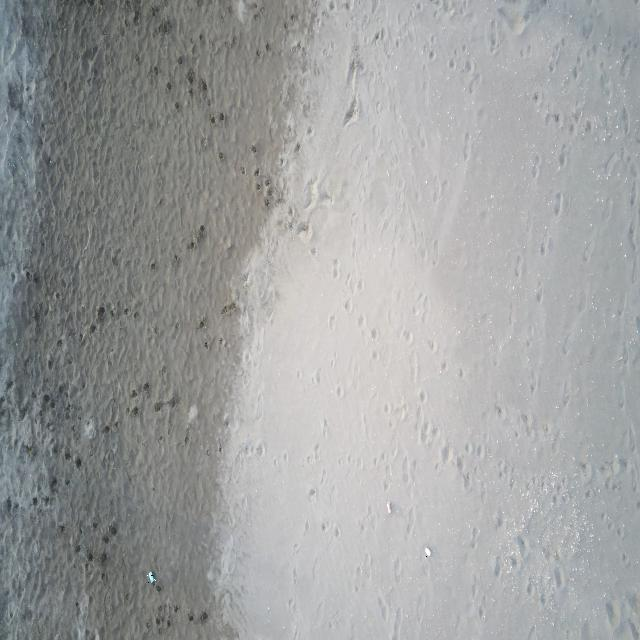Garbage: (145, 572, 155, 583), (424, 546, 431, 556)
